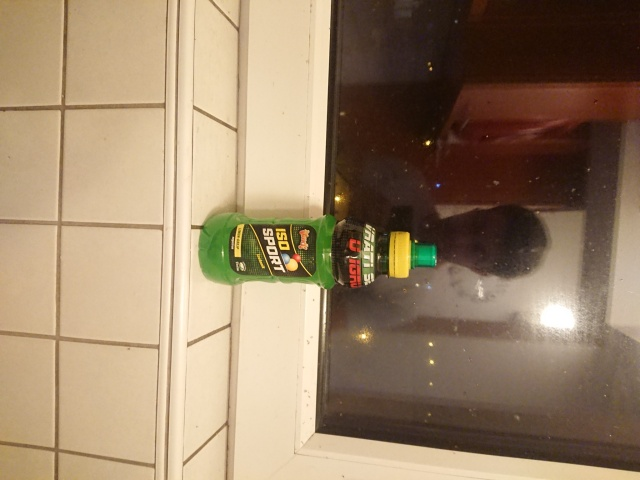Vindi Iso Sport Lemon-Grapefruit 500mL: (195, 210, 440, 292)
